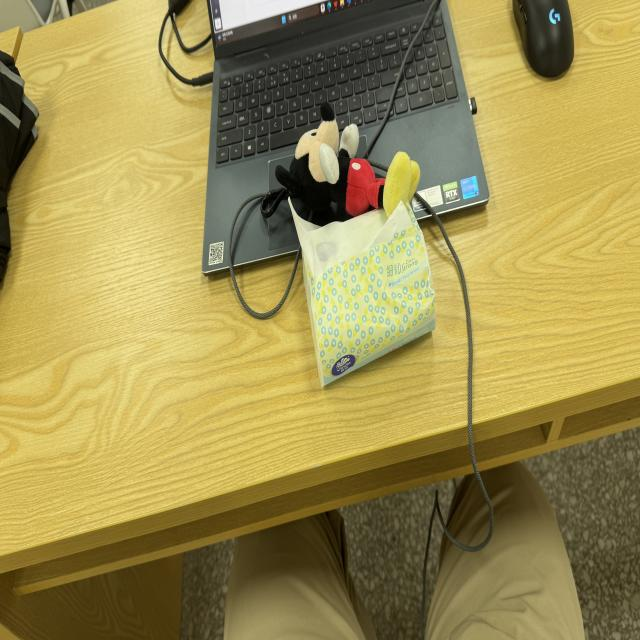mickey: (276, 103, 420, 216)
tissue: (289, 200, 435, 388)
